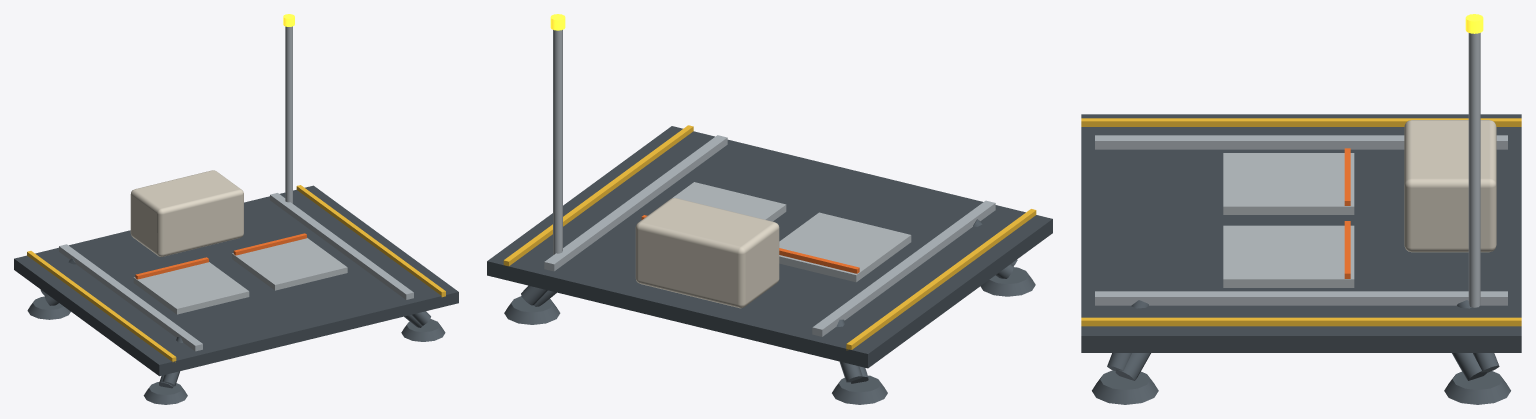
Rendered from base-boss-landing-cache.glb.
The picture shows the model from 3 angles, left to right: view 1: azimuth 30°, elevation 25°; view 2: azimuth 150°, elevation 25°; view 3: azimuth 270°, elevation 25°; orthographic projection. The views are drawn at different scales.
Visible parts, largest first — view 1: base-boss-landing-cache-floor-grate, base-boss-landing-cache-warm-ceramic-insulation, base-boss-landing-cache-panel-grey, base-boss-landing-cache-aluminium, base-boss-landing-cache-dark-steel, base-boss-landing-cache-hazard-yellow, base-boss-landing-cache-safety-orange; view 2: base-boss-landing-cache-floor-grate, base-boss-landing-cache-warm-ceramic-insulation, base-boss-landing-cache-aluminium, base-boss-landing-cache-panel-grey, base-boss-landing-cache-dark-steel, base-boss-landing-cache-hazard-yellow, base-boss-landing-cache-safety-orange; view 3: base-boss-landing-cache-floor-grate, base-boss-landing-cache-panel-grey, base-boss-landing-cache-aluminium, base-boss-landing-cache-warm-ceramic-insulation, base-boss-landing-cache-hazard-yellow, base-boss-landing-cache-dark-steel, base-boss-landing-cache-safety-orange.
Boxes of the visible parts, bbox=[...] form: base-boss-landing-cache-floor-grate: bbox=[14, 185, 458, 376]; base-boss-landing-cache-warm-ceramic-insulation: bbox=[130, 170, 243, 256]; base-boss-landing-cache-panel-grey: bbox=[133, 238, 347, 314]; base-boss-landing-cache-aluminium: bbox=[59, 26, 413, 351]; base-boss-landing-cache-dark-steel: bbox=[27, 258, 445, 404]; base-boss-landing-cache-hazard-yellow: bbox=[27, 185, 445, 362]; base-boss-landing-cache-safety-orange: bbox=[135, 233, 306, 279]; base-boss-landing-cache-floor-grate: bbox=[487, 126, 1052, 368]; base-boss-landing-cache-warm-ceramic-insulation: bbox=[635, 198, 779, 308]; base-boss-landing-cache-aluminium: bbox=[544, 30, 995, 336]; base-boss-landing-cache-panel-grey: bbox=[672, 182, 911, 282]; base-boss-landing-cache-dark-steel: bbox=[504, 219, 1035, 404]; base-boss-landing-cache-hazard-yellow: bbox=[503, 125, 1036, 350]; base-boss-landing-cache-safety-orange: bbox=[641, 215, 859, 273]; base-boss-landing-cache-floor-grate: bbox=[1081, 114, 1521, 352]; base-boss-landing-cache-panel-grey: bbox=[1223, 153, 1354, 287]; base-boss-landing-cache-aluminium: bbox=[1095, 33, 1507, 307]; base-boss-landing-cache-warm-ceramic-insulation: bbox=[1404, 120, 1496, 252]; base-boss-landing-cache-hazard-yellow: bbox=[1081, 118, 1521, 326]; base-boss-landing-cache-dark-steel: bbox=[1092, 300, 1510, 404]; base-boss-landing-cache-safety-orange: bbox=[1344, 148, 1350, 278].
Bounding box in the file's own units: 5 × 3.77 × 4.2.
